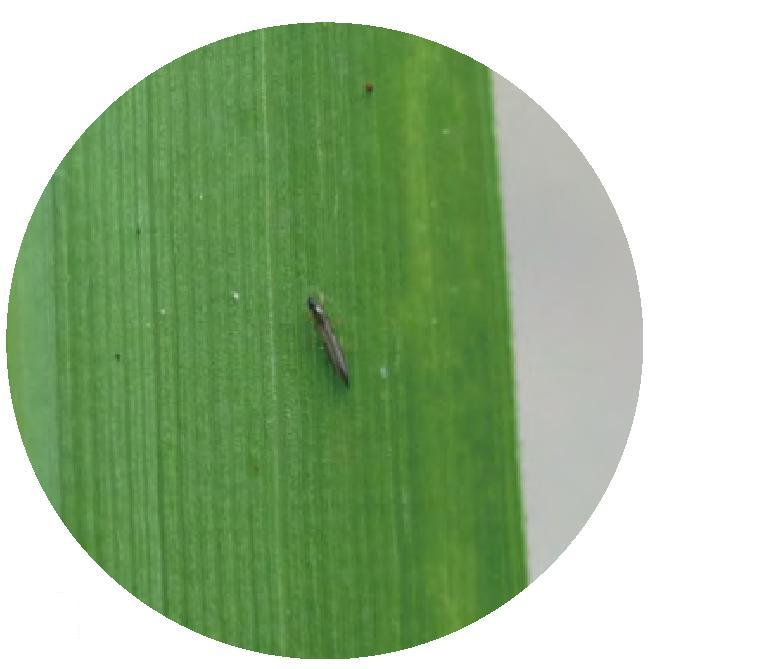Phlaeothripidae: (305, 292, 354, 386)
